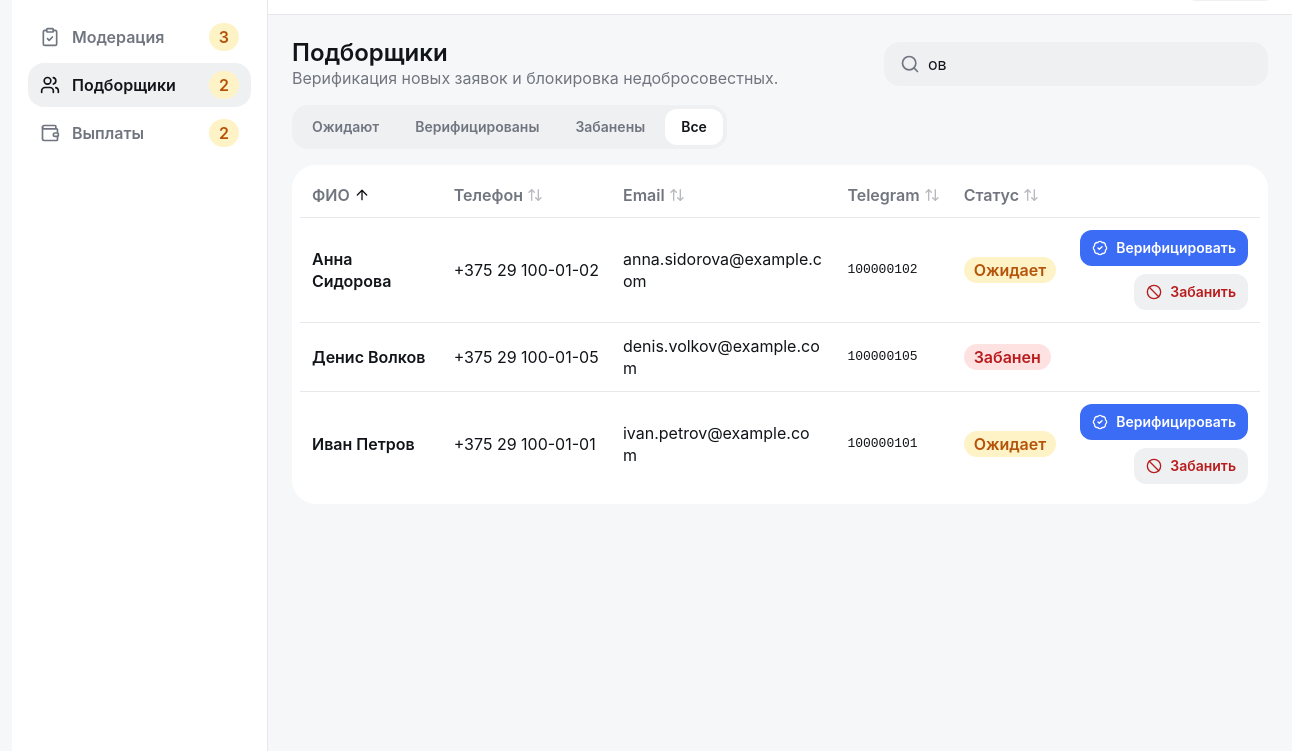
вкладки › смена вкладки сбрасывает страницу, но сохраняет поиск
What coordinates should you click on to do the following:
click the tab "Ожидают"
I would click on:
 (346, 127)
Its box is [296,109,395,145].
(page scrolled)
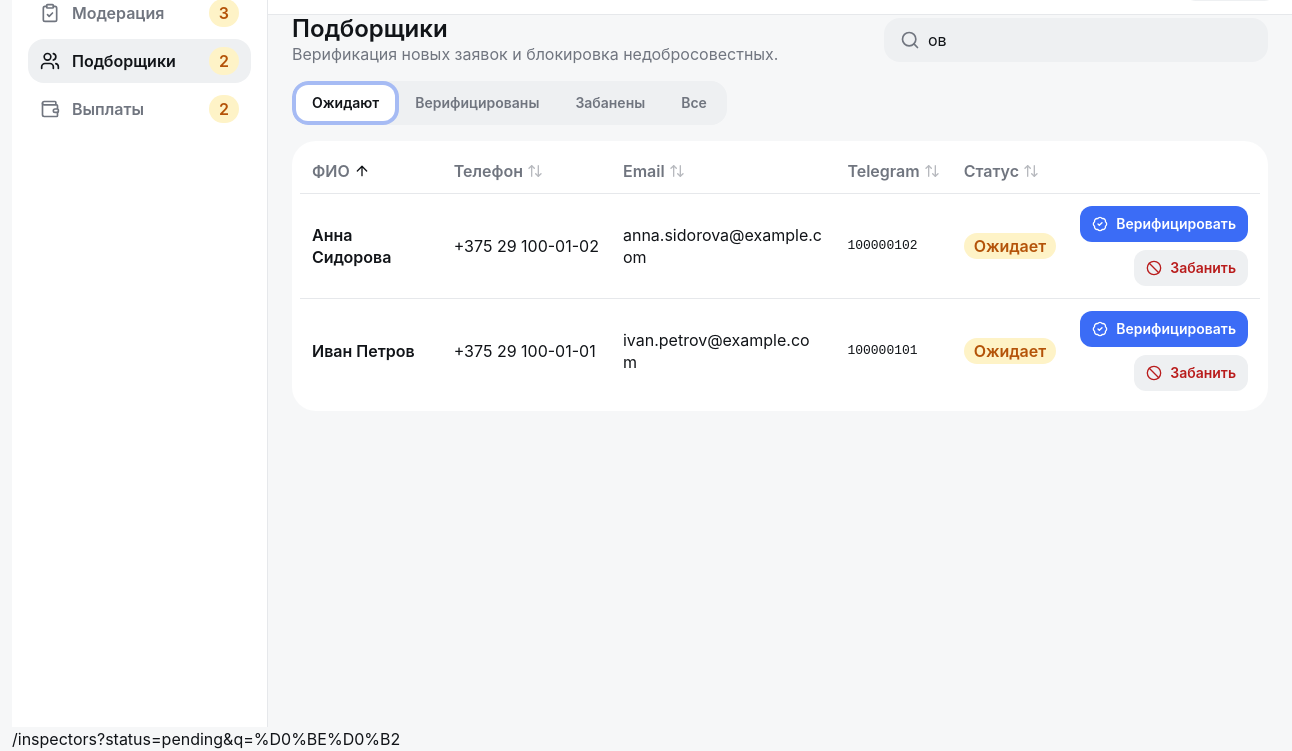
Now the text with test id "location" reads "/inspectors?status=pending&q=%D0%BE%D0%B2", box [12,729,400,749]
